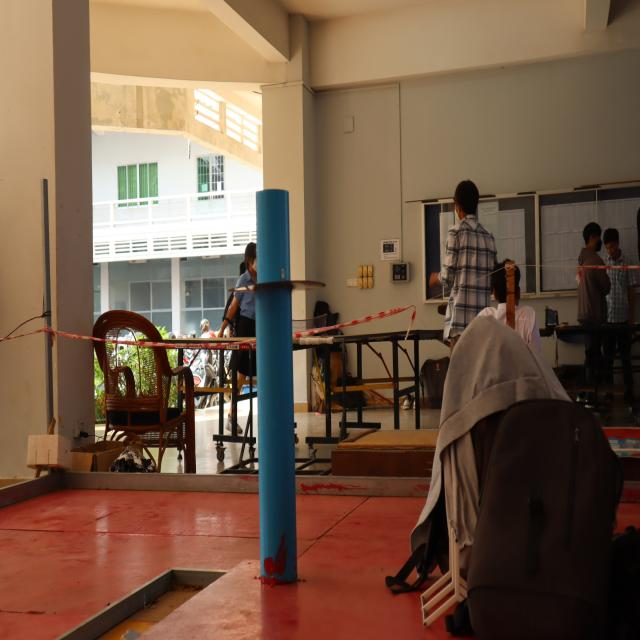pole: (232, 181, 323, 401)
